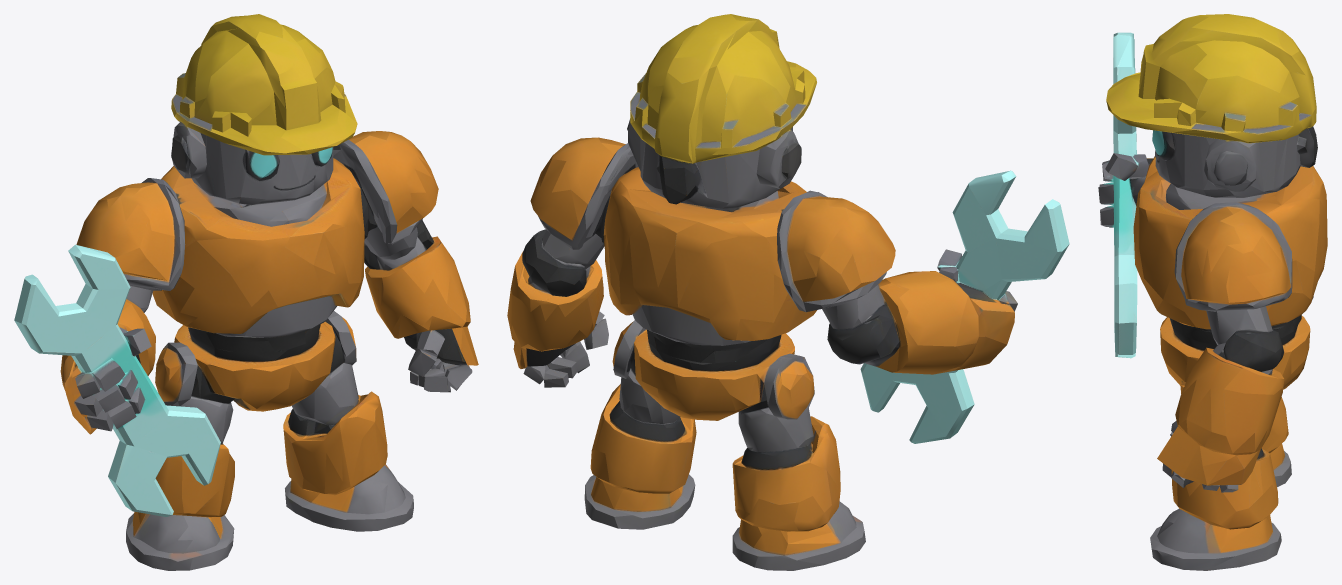
The model's file is npc-builder.glb.
3 renders of one model, left to right at view 1: azimuth 30°, elevation 25°; view 2: azimuth 150°, elevation 25°; view 3: azimuth 270°, elevation 25°, orthographic. The views are drawn at different scales.
Visible parts, largest first — view 1: Mesh_0; view 2: Mesh_0; view 3: Mesh_0.
Part boxes in pixels (x1,y1,x2,y2): Mesh_0: (14, 14, 478, 570); Mesh_0: (507, 14, 1069, 570); Mesh_0: (1098, 14, 1327, 570).
Bounding box in the file's own units: 1.9 × 1.82 × 0.7786.
1 material, 1 textured.
